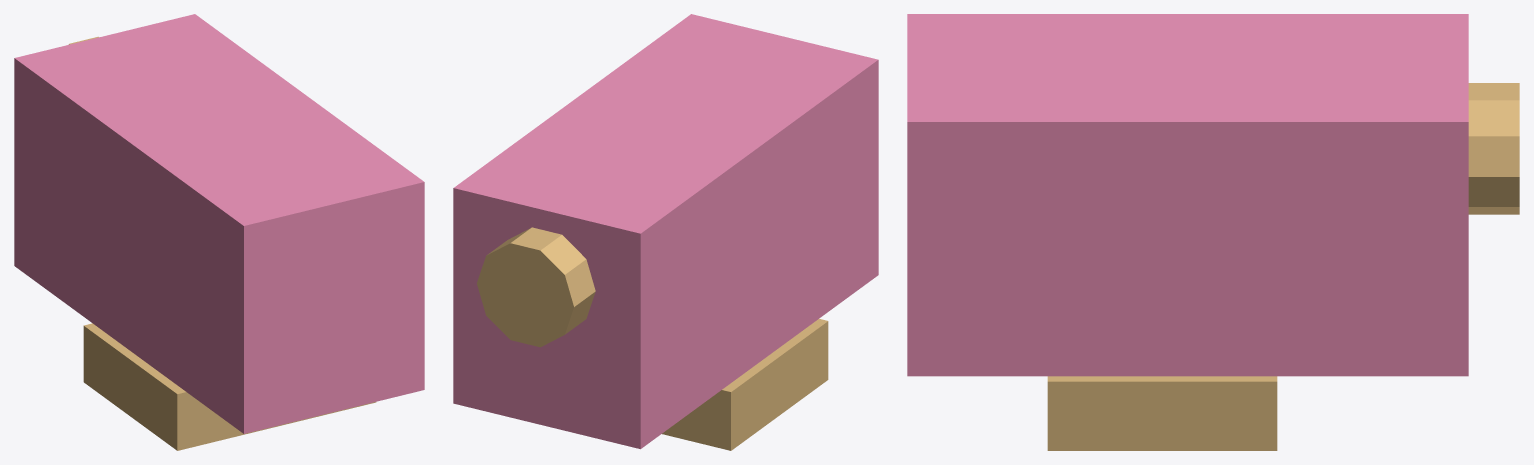
Rendered from Rangefinder.obj.
The picture shows the model from 3 angles, left to right: view 1: azimuth 30°, elevation 25°; view 2: azimuth 150°, elevation 25°; view 3: azimuth 270°, elevation 25°; orthographic projection. The views are drawn at different scales.
Parts seen in each view (by area): view 1: Rangefinder_Body, Rangefinder_Detail; view 2: Rangefinder_Body, Rangefinder_Detail; view 3: Rangefinder_Body, Rangefinder_Detail.
Part boxes in pixels (x1=…): Rangefinder_Body: x1=14, y1=14, x2=424, y2=433; Rangefinder_Detail: x1=68, y1=36, x2=376, y2=450; Rangefinder_Body: x1=453, y1=14, x2=878, y2=449; Rangefinder_Detail: x1=477, y1=227, x2=828, y2=450; Rangefinder_Body: x1=907, y1=14, x2=1468, y2=376; Rangefinder_Detail: x1=1047, y1=83, x2=1519, y2=450.
Bounding box in the file's own units: 0.11 × 0.14 × 0.24.
